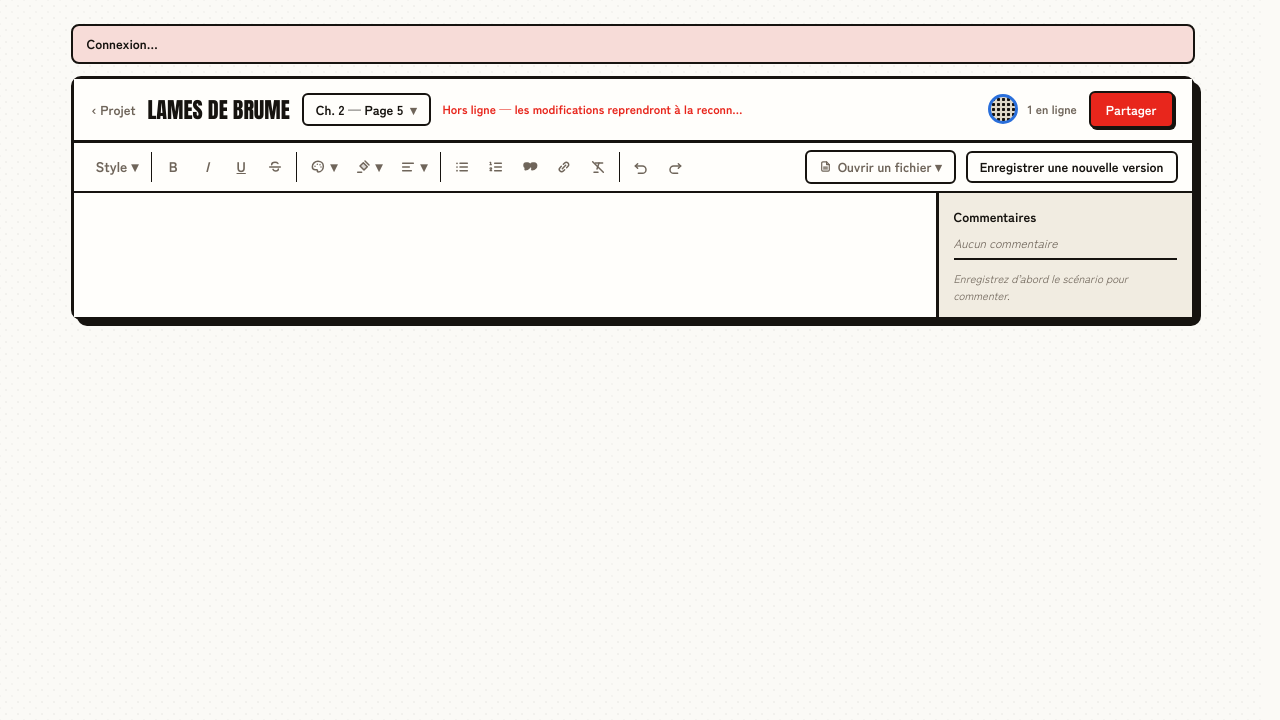
Test case: EditorClient (Éditeur shell) › on a blank card, confirming the version modal materializes v1 via autosave (no snapshot POST)
Expected: the text "Lames de Brume" is shown, x1=148 y1=93 x2=290 y2=126
Step 1. Click the button "Enregistrer une nouvelle version" → (1072, 167), box x1=966 y1=151 x2=1178 y2=183
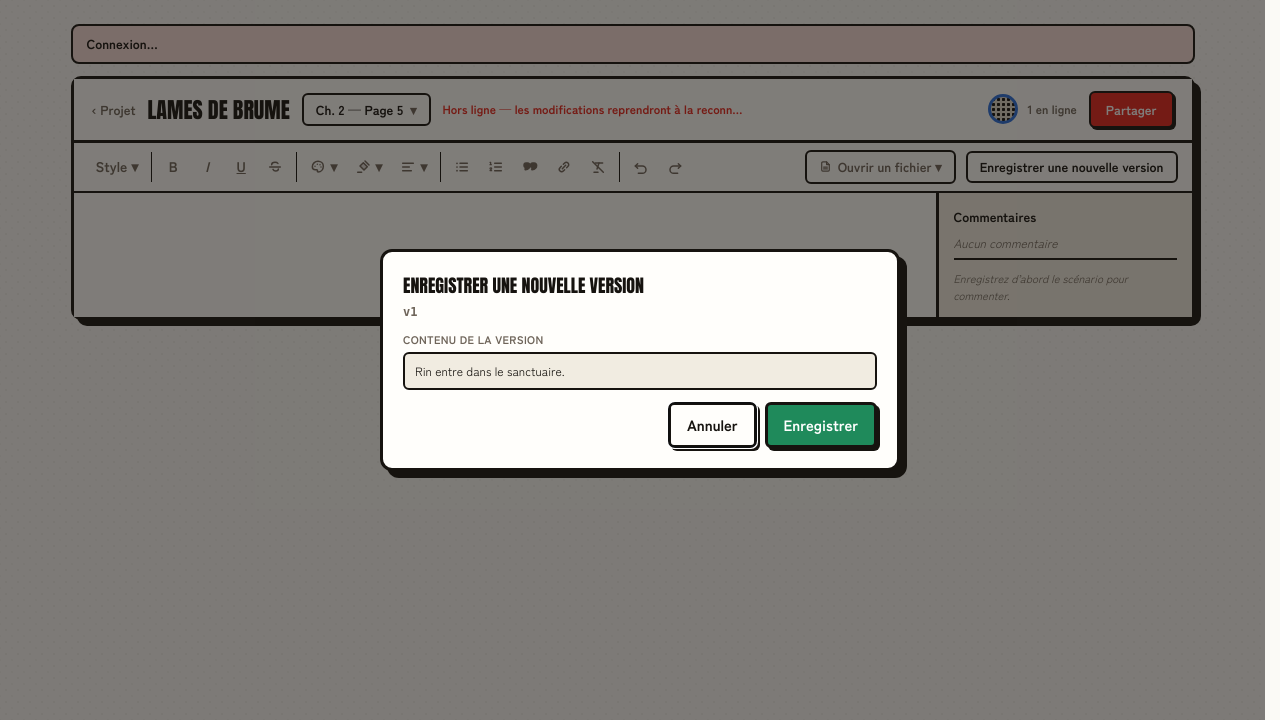
Expected: the text "v1" is shown, x1=403 y1=305 x2=418 y2=319
Step 2. Click the button "Enregistrer" → (821, 425), box x1=765 y1=402 x2=877 y2=448
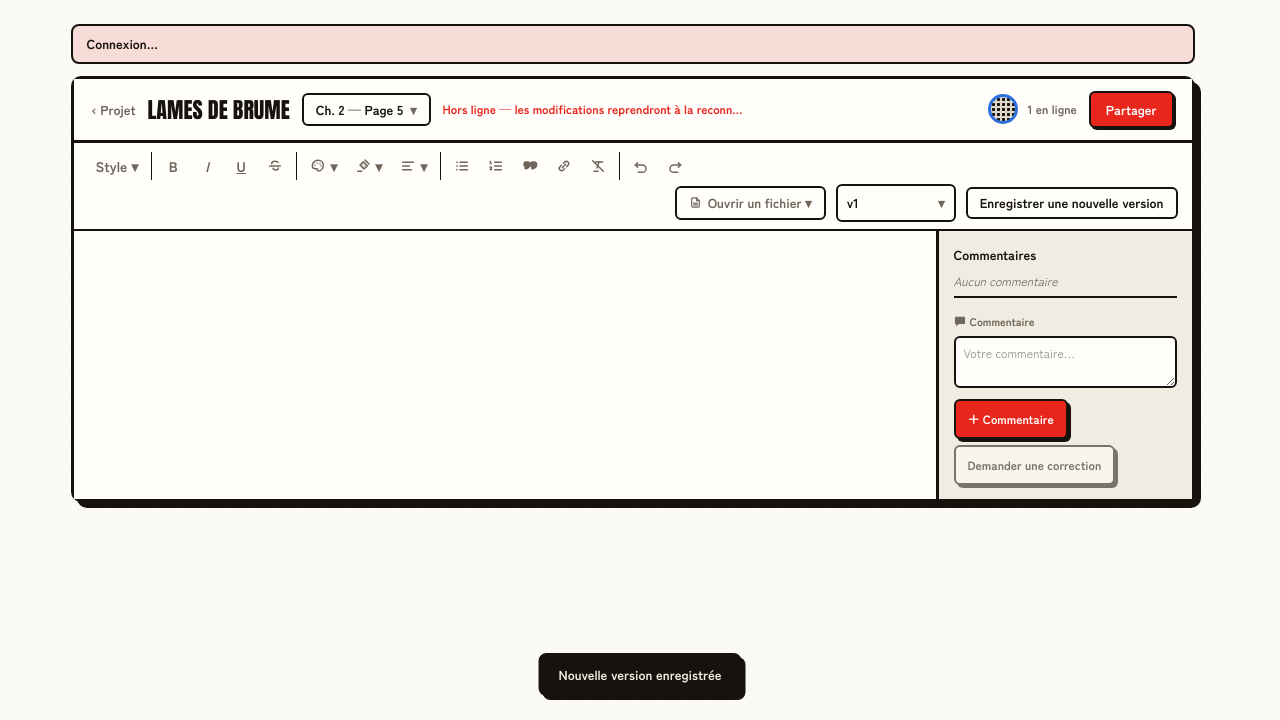
Expected: the text "v1" is shown, x1=847 y1=193 x2=858 y2=212
Expected: the text "Nouvelle version enregistrée" is shown, x1=538 y1=652 x2=742 y2=696
